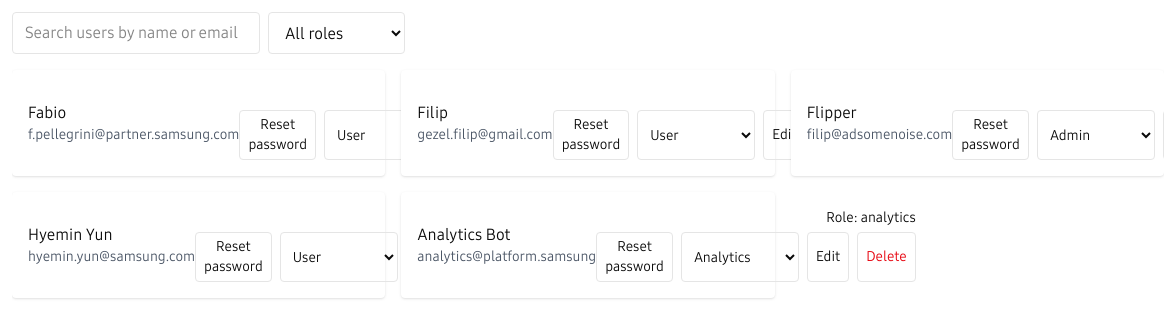
Test: UsersClient › renders initial users and filters by search query
Expected: the heading "Fabio" is shown, [28, 103, 66, 122]
Note: Type a query that matches a user's email
Type "gezel.filip" into the field with placeholder "Search users by name or email" at (136, 33), box [12, 12, 260, 54]
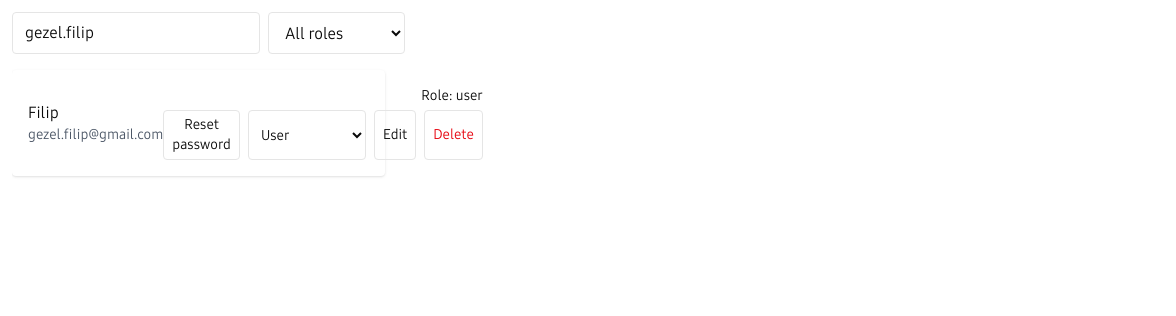
Expected: the heading "Filip" is shown, [28, 103, 59, 122]
Expected: the heading "Fabio" is gone
